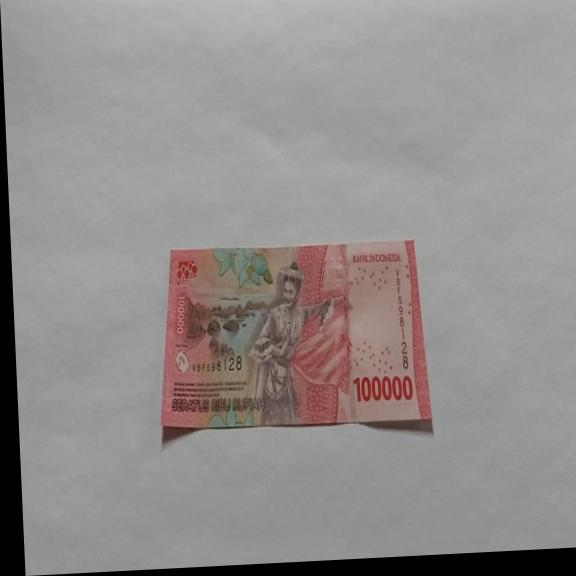Kertas: (152, 236, 433, 441), (352, 371, 414, 405)
